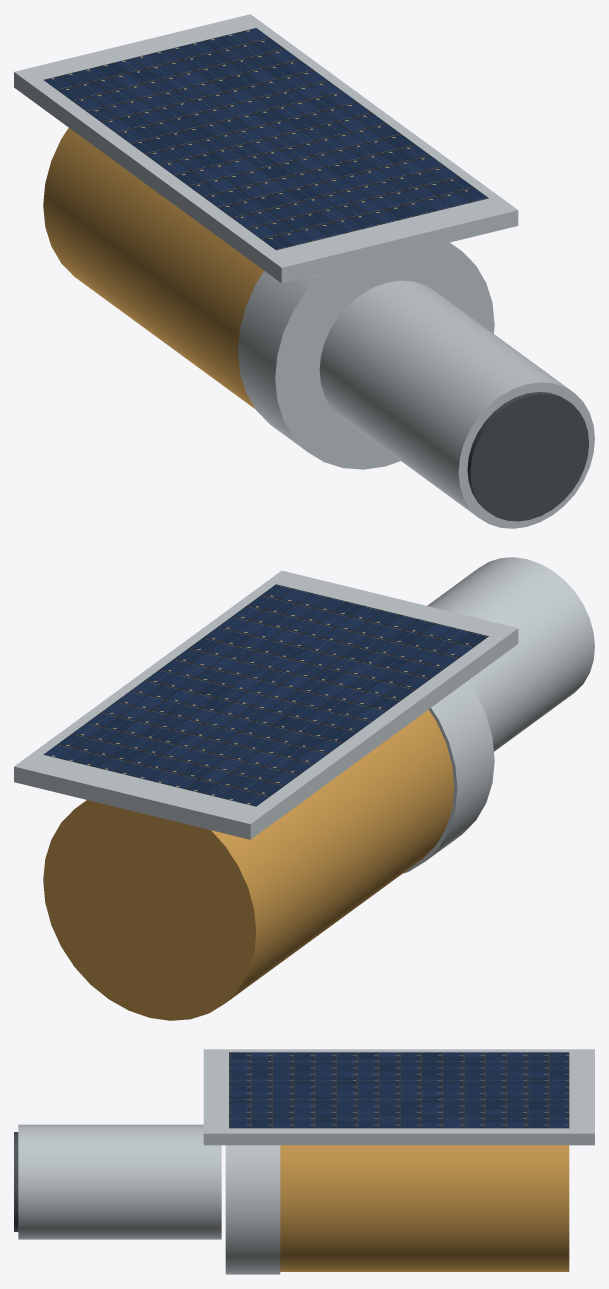
File: ref-iso-23715.glb
The picture shows the model from 3 angles, top to bottom: view 1: azimuth 30°, elevation 25°; view 2: azimuth 150°, elevation 25°; view 3: azimuth 270°, elevation 25°; orthographic projection. The views are drawn at different scales.
Parts seen in each view (by area): view 1: Sunshield solar cells, Optical instrument housing, Service barrel, Equipment flange, Sunshield, Telescope aperture; view 2: Service barrel, Sunshield solar cells, Sunshield, Optical instrument housing, Equipment flange; view 3: Service barrel, Sunshield solar cells, Optical instrument housing, Sunshield, Equipment flange, Telescope aperture.
Part boxes in pixels (left/top/right/bottom): Sunshield solar cells: left=43, top=28, right=488, bottom=250; Optical instrument housing: left=319, top=280, right=594, bottom=528; Service barrel: left=43, top=128, right=263, bottom=408; Equipment flange: left=238, top=242, right=494, bottom=469; Sunshield: left=14, top=14, right=518, bottom=283; Telescope aperture: left=467, top=392, right=589, bottom=521; Service barrel: left=43, top=710, right=454, bottom=1020; Sunshield solar cells: left=43, top=584, right=488, bottom=806; Sunshield: left=14, top=570, right=518, bottom=839; Optical instrument housing: left=427, top=557, right=594, bottom=751; Equipment flange: left=403, top=681, right=494, bottom=873; Service barrel: left=280, top=1145, right=569, bottom=1271; Sunshield solar cells: left=229, top=1052, right=569, bottom=1128; Optical instrument housing: left=18, top=1124, right=221, bottom=1239; Sunshield: left=203, top=1049, right=594, bottom=1145; Equipment flange: left=225, top=1145, right=280, bottom=1274; Telescope aperture: left=14, top=1132, right=18, bottom=1231.
Size of the model in its own units: 3.11 by 3.02 by 9.05.
4 materials, 1 textured.
